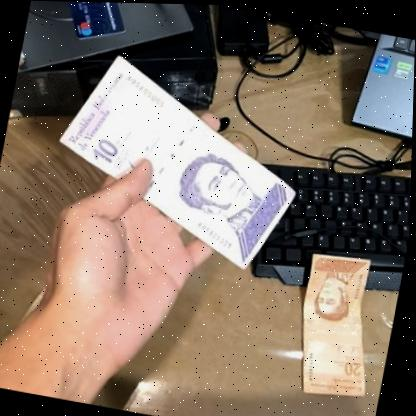vef_front: (39, 46, 318, 276), (289, 247, 393, 403)
